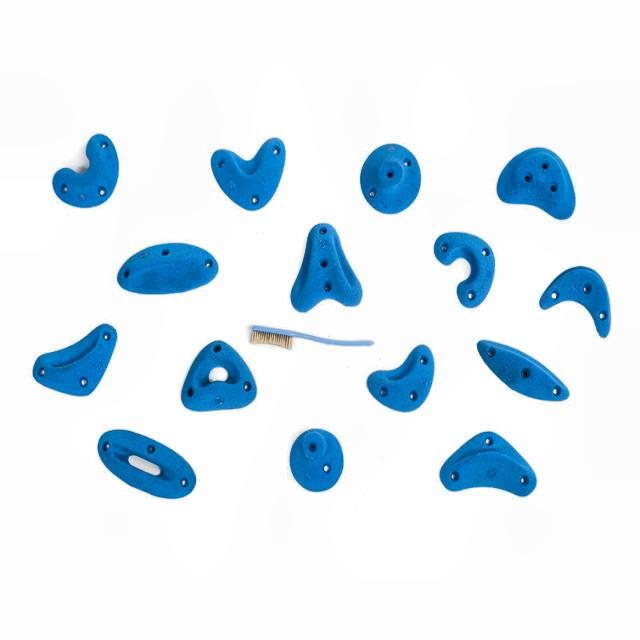Hold: (94, 428, 206, 510), (489, 143, 589, 221), (441, 427, 538, 502), (536, 262, 620, 342), (33, 327, 127, 397), (292, 226, 370, 310), (477, 338, 571, 406), (208, 136, 285, 214), (114, 242, 226, 294), (180, 338, 258, 412), (360, 132, 426, 218), (52, 133, 124, 210), (366, 340, 442, 410), (434, 230, 498, 308), (284, 427, 350, 490)
